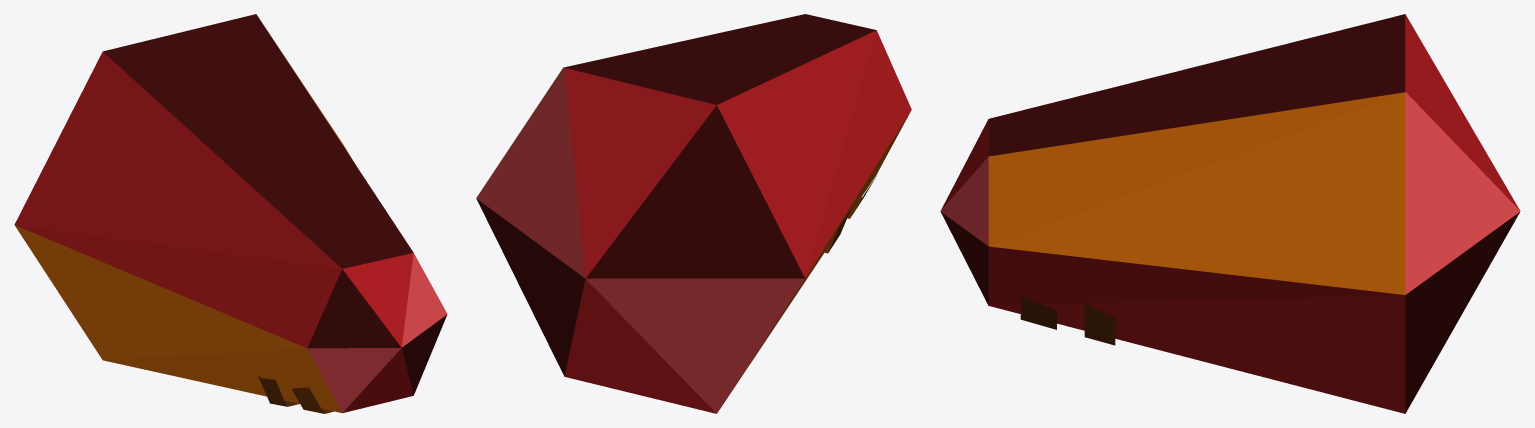
3 views of the same model, side by side, from view 1: azimuth 30°, elevation 25°; view 2: azimuth 150°, elevation 25°; view 3: azimuth 270°, elevation 25° (orthographic). The views are drawn at different scales.
Parts seen in each view (by area): view 1: ss3d_48_cyber_decoy; view 2: ss3d_48_cyber_decoy; view 3: ss3d_48_cyber_decoy.
Boxes of the visible parts, box(x1,y1,x2,y2) form: ss3d_48_cyber_decoy: box(14, 14, 447, 413); ss3d_48_cyber_decoy: box(476, 14, 911, 413); ss3d_48_cyber_decoy: box(940, 14, 1520, 413).
Bounding box in the file's own units: 2.12 × 1.91 × 3.11.
Materials: 1 (1 with a texture image).
